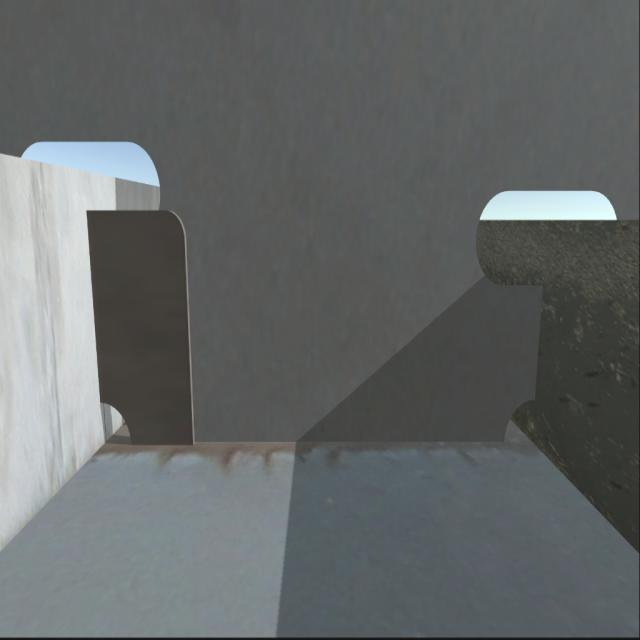fillet_hole: (500, 396, 540, 448), (98, 394, 136, 445)
fillet_yong_jeop_jang: (132, 433, 506, 449)
longi_yong_jeop_jang: (90, 207, 103, 402), (532, 284, 548, 401)
plate_CP05: (94, 203, 194, 447)
